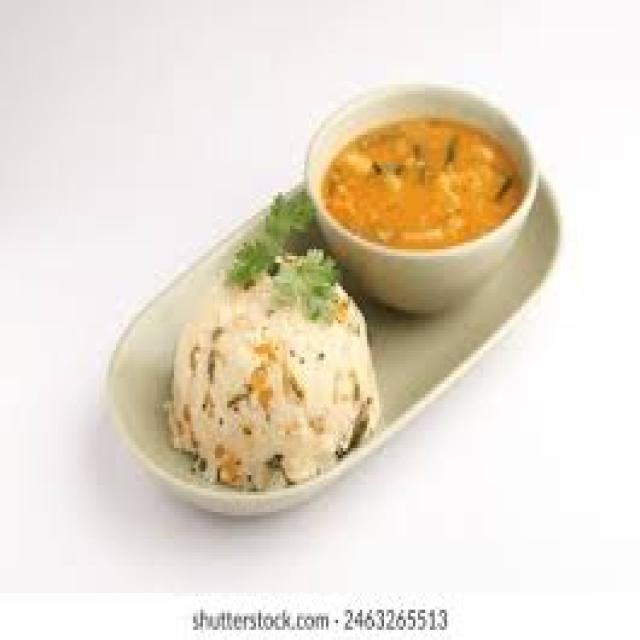UPMA: (167, 243, 377, 482)
